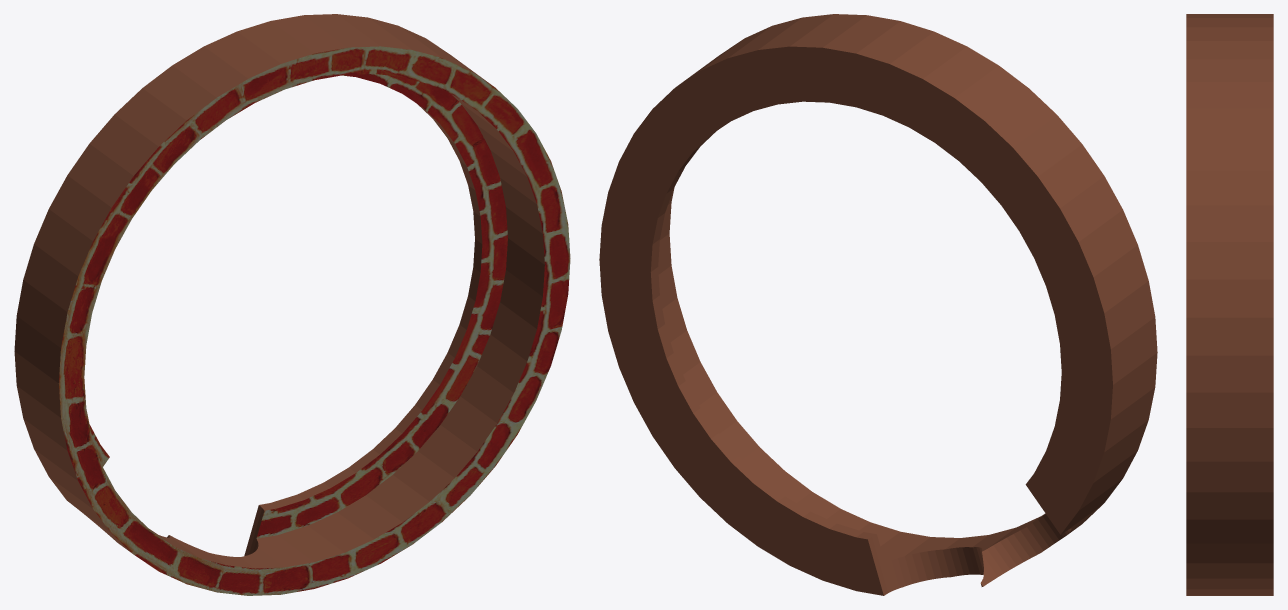
Rendered from pool_029.obj.
3 renders of one model, left to right at view 1: azimuth 30°, elevation 25°; view 2: azimuth 150°, elevation 25°; view 3: azimuth 270°, elevation 25°, orthographic.
Bounding box in the file's own units: 20 × 20 × 3.
